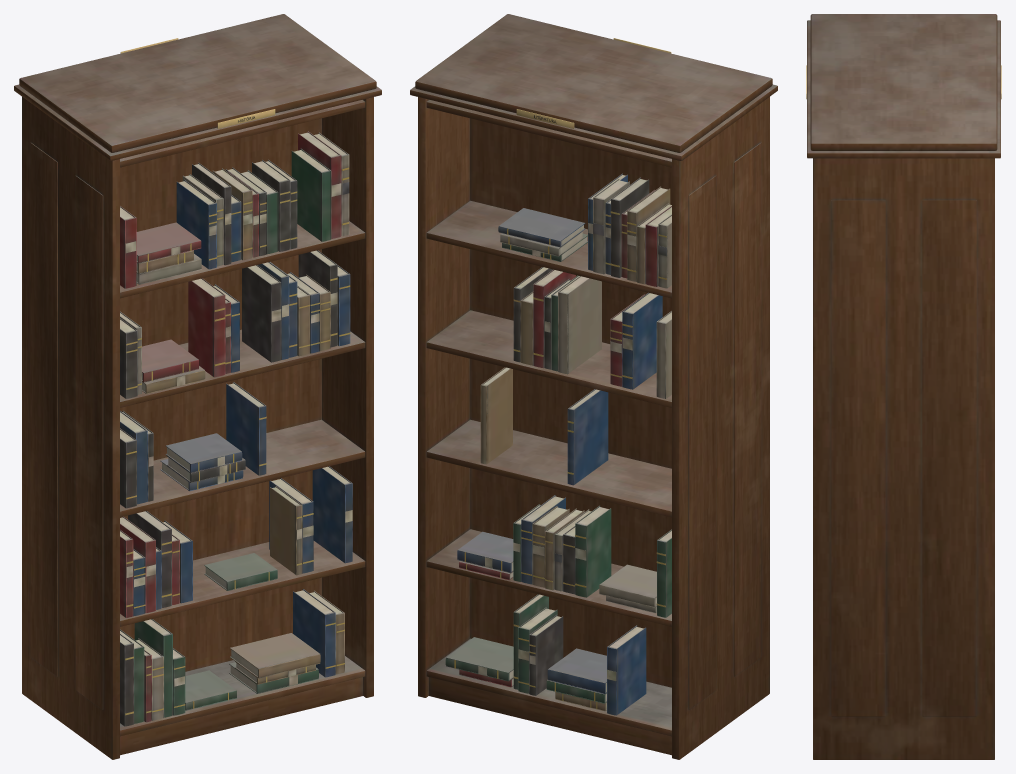
File: estante_biblioteca.glb
The picture shows the model from 3 angles, left to right: view 1: azimuth 30°, elevation 25°; view 2: azimuth 150°, elevation 25°; view 3: azimuth 270°, elevation 25°; orthographic projection.
Visible parts, largest first — view 1: estante, livros; view 2: estante, livros; view 3: estante.
Part boxes in pixels (x1,y1,x2,y2): estante: [14, 14, 381, 759]; livros: [120, 131, 352, 726]; estante: [410, 14, 777, 759]; livros: [445, 173, 671, 715]; estante: [806, 14, 1001, 759].
Bounding box in the file's own units: 1.04 × 2.25 × 0.6444.
Materials: 2 (2 with a texture image).
